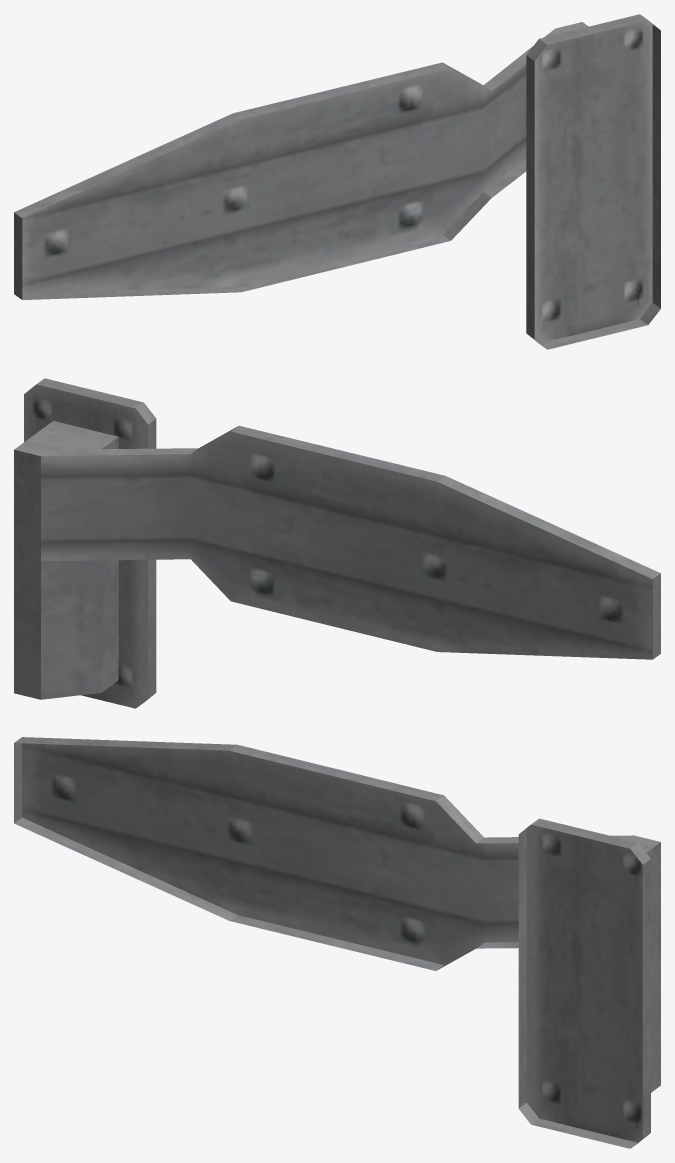
The model's file is paris_kitchen_hinge_lod0.glb.
The picture shows the model from 3 angles, top to bottom: view 1: azimuth 30°, elevation 25°; view 2: azimuth 150°, elevation 25°; view 3: azimuth 330°, elevation 25°; orthographic projection.
Visible parts, largest first — view 1: surf0; view 2: surf0; view 3: surf0.
Part boxes in pixels (x1,y1,x2,y2): surf0: [14, 14, 660, 349]; surf0: [14, 378, 660, 708]; surf0: [14, 737, 660, 1148].
Size of the model in its own units: 14.6 by 6.67 by 1.92.
